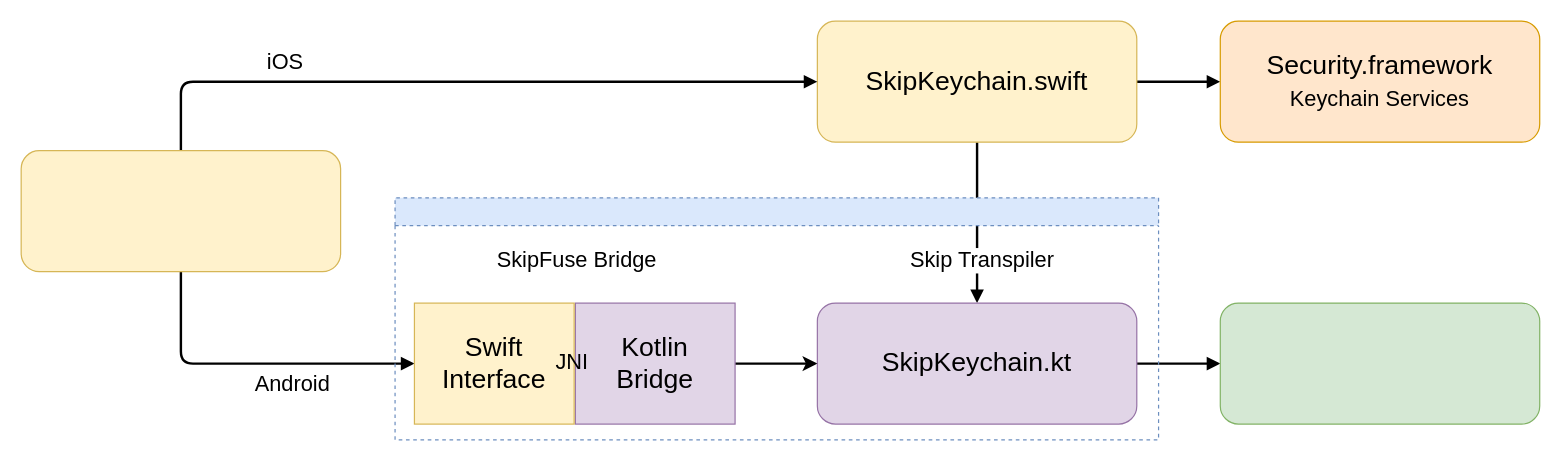
This 1561x461 diagram has some shape labels left out. The box of each missing label's shape, as (x1, y1, x2, y2) in pixels:
androidx.security.crypto. EncryptedSharedPreferences: (1219, 302, 1540, 424)
Keychain Client Model.swift: (20, 149, 341, 272)
Skip Generated: (394, 197, 1159, 440)
